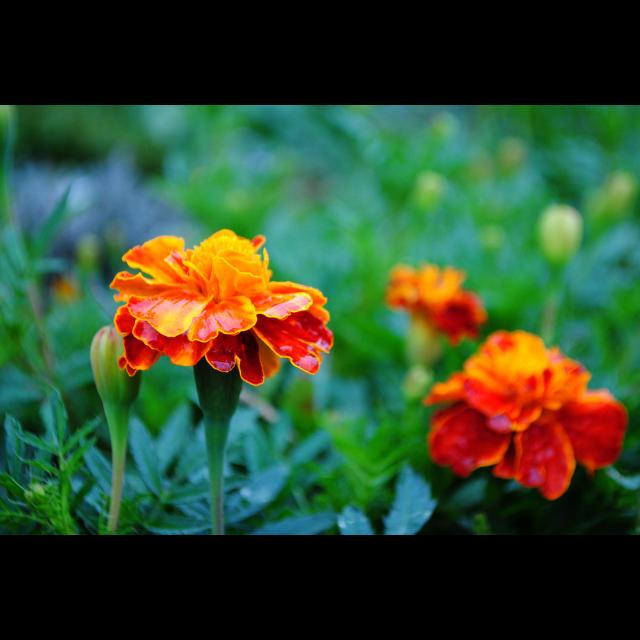Flower: (103, 225, 331, 399), (424, 326, 630, 490), (384, 260, 486, 340)
